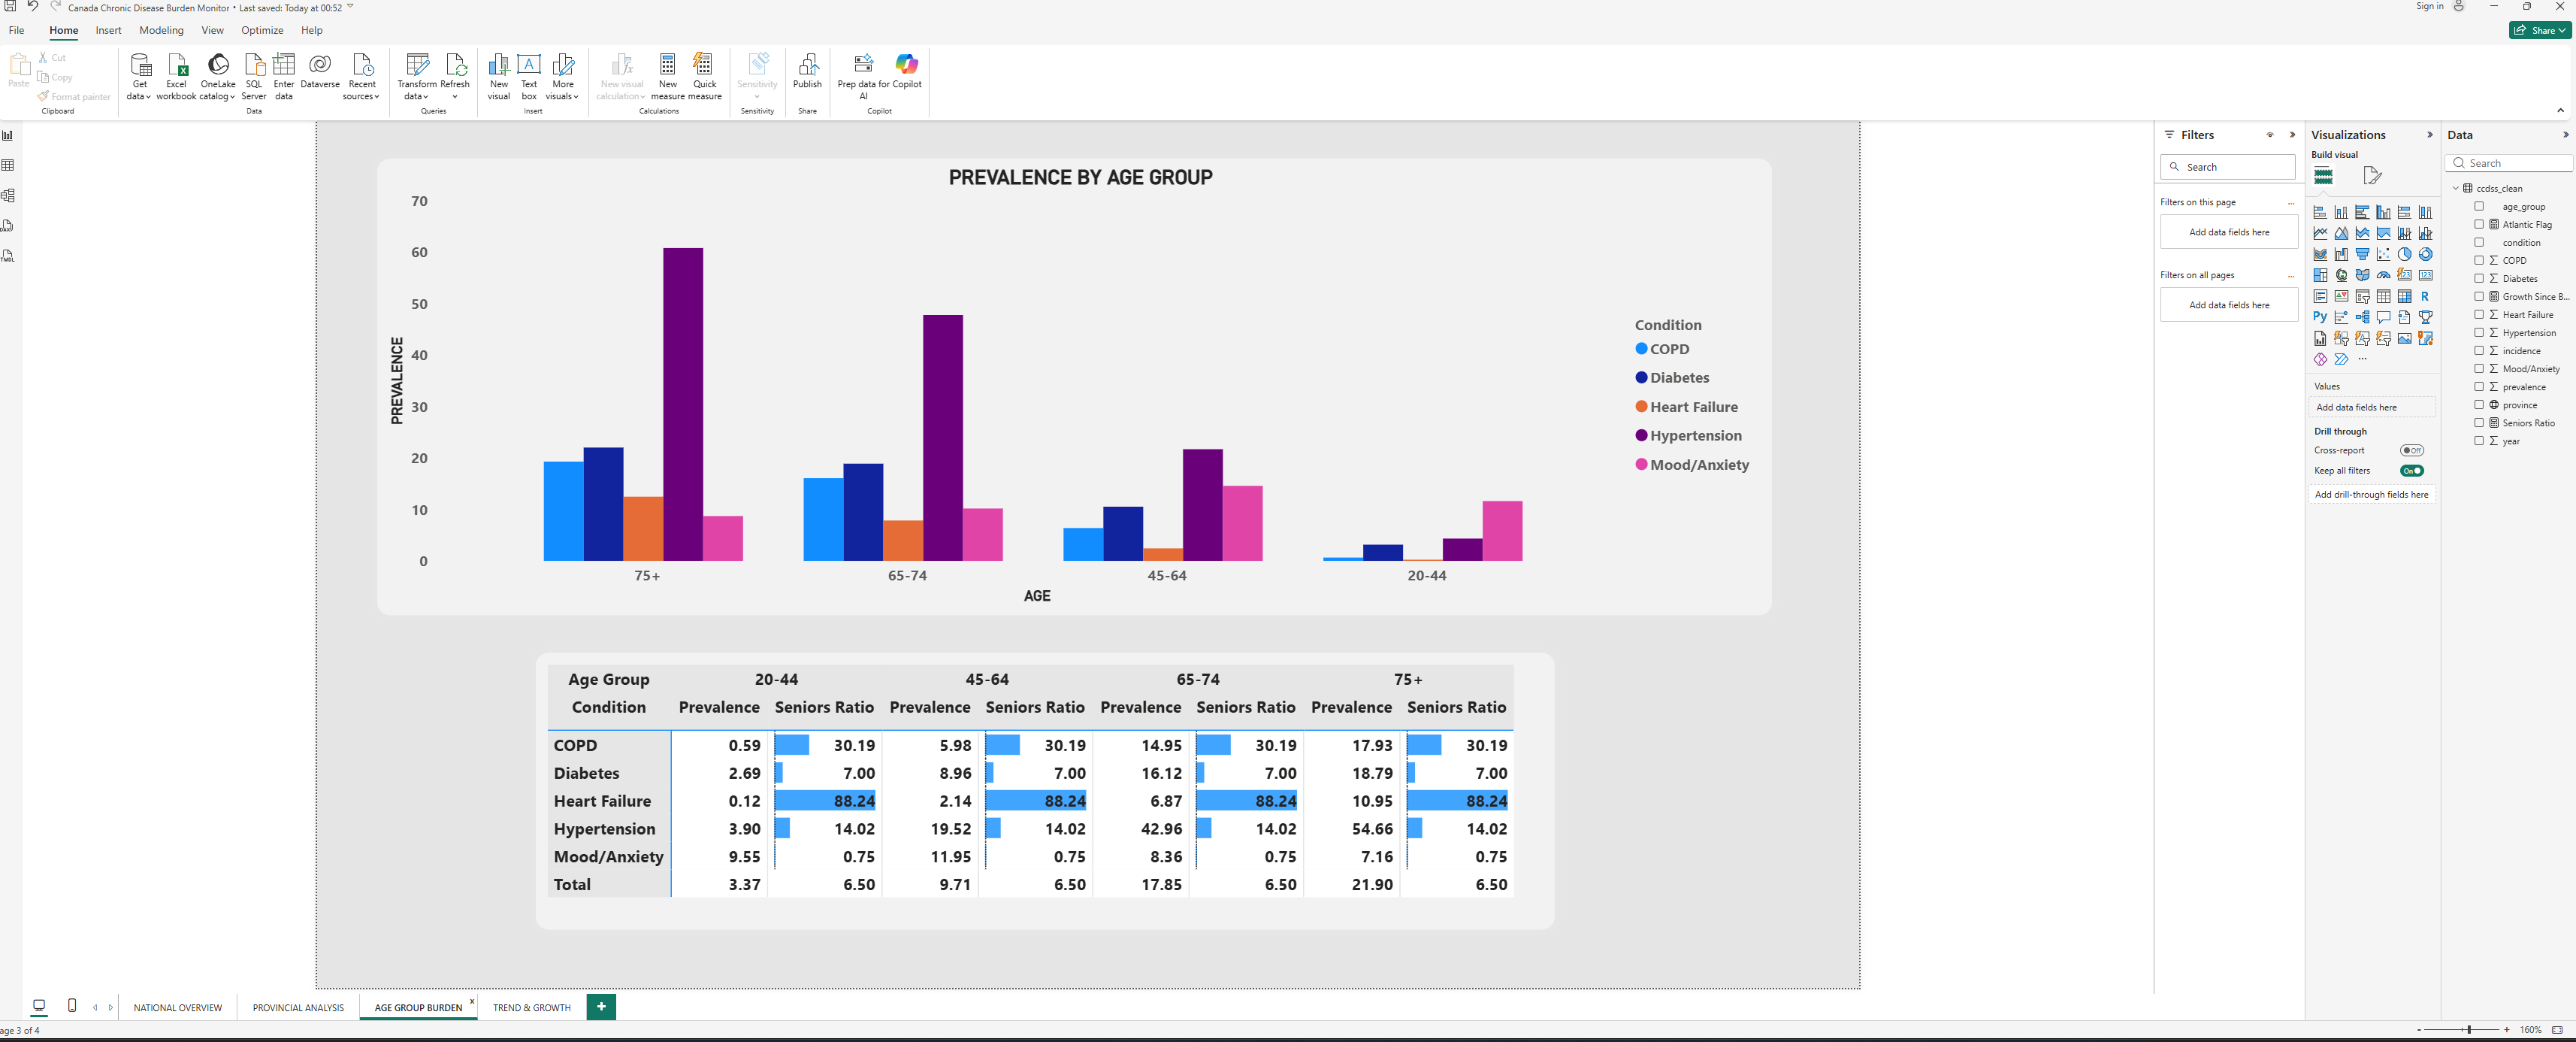

The page's visual inventory and layout, read from the dashboard file:
{"tool":"powerbi","page":{"name":"AGE GROUP BURDEN","canvas":[1280,720],"ordinal":2},"visuals":[{"type":"clusteredColumnChart","title":"PREVALENCE BY AGE GROUP","fields":{"Category":["ccdss_clean.age_group"],"Y":["Avg(ccdss_clean.prevalence)"],"Series":["ccdss_clean.condition"]},"box":[45.2,27.1,1168.5,388.8],"z":0},{"type":"pivotTable","fields":{"Rows":["ccdss_clean.condition"],"Columns":["ccdss_clean.age_group"],"Values":["Avg(ccdss_clean.prevalence)","ccdss_clean.Seniors Ratio"]},"box":[176.8,437,856,240.1],"z":1000}]}

Visuals, with their boxes on the page's 1280x720 design canvas (x1, y1, x2, y2). These are canvas units, not pixel positions in the 2576x1042 screenshot, which may show the page scaled, cropped or inside an application window:
"PREVALENCE BY AGE GROUP" clusteredColumnChart: BBox(45, 27, 1214, 416)
pivotTable - ccdss_clean.condition x ccdss_clean.age_group: BBox(177, 437, 1033, 677)
